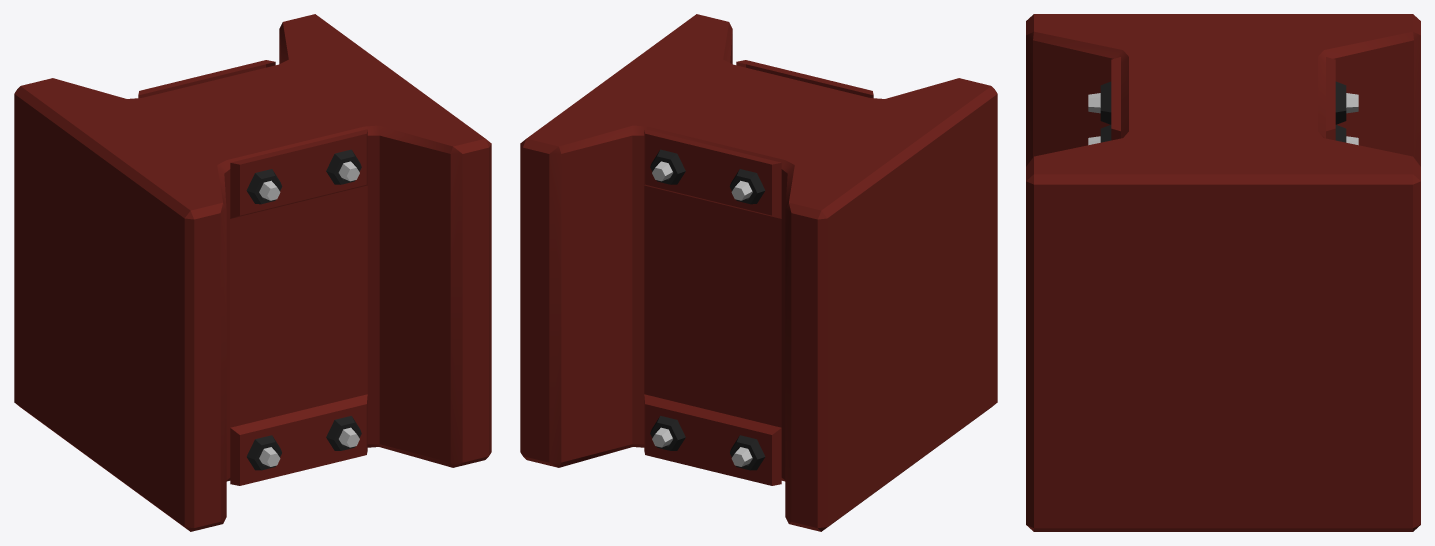
File: sm_steelbeam.fbx
3 renders of one model, left to right at view 1: azimuth 30°, elevation 25°; view 2: azimuth 150°, elevation 25°; view 3: azimuth 270°, elevation 25°, orthographic. The views are drawn at different scales.
Parts seen in each view (by area): view 1: steelbeam; view 2: steelbeam; view 3: steelbeam.
Boxes of the visible parts, box(x1,y1,x2,y2) form: steelbeam: box(14, 14, 491, 531); steelbeam: box(520, 14, 997, 531); steelbeam: box(1026, 14, 1420, 531).
Bounding box in the file's own units: 100 × 100 × 100.
